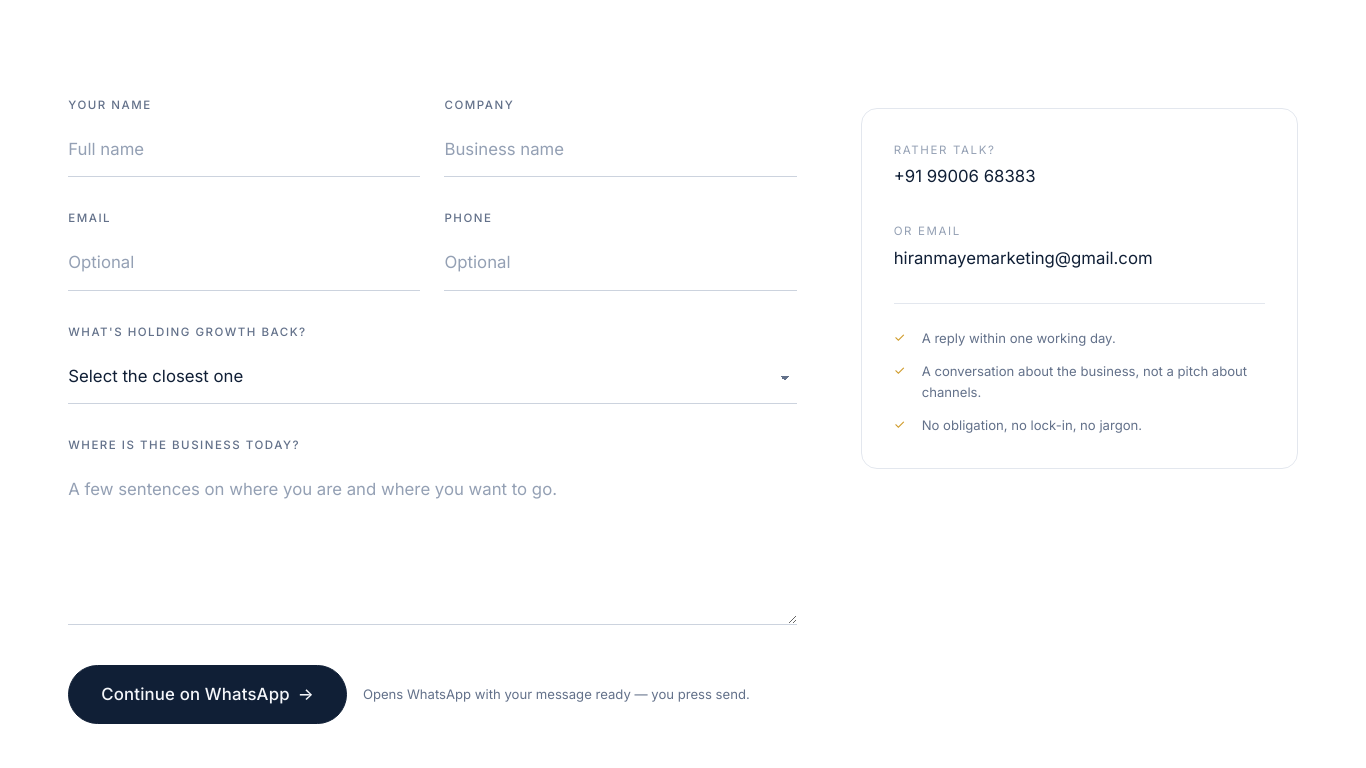
Test: ContactForm › keeps email and phone optional, validating them only when filled
Type "Valan" into the field labelled "Your name".
click(244, 150); type("Valan")  # box left=68, top=122, right=420, bottom=177
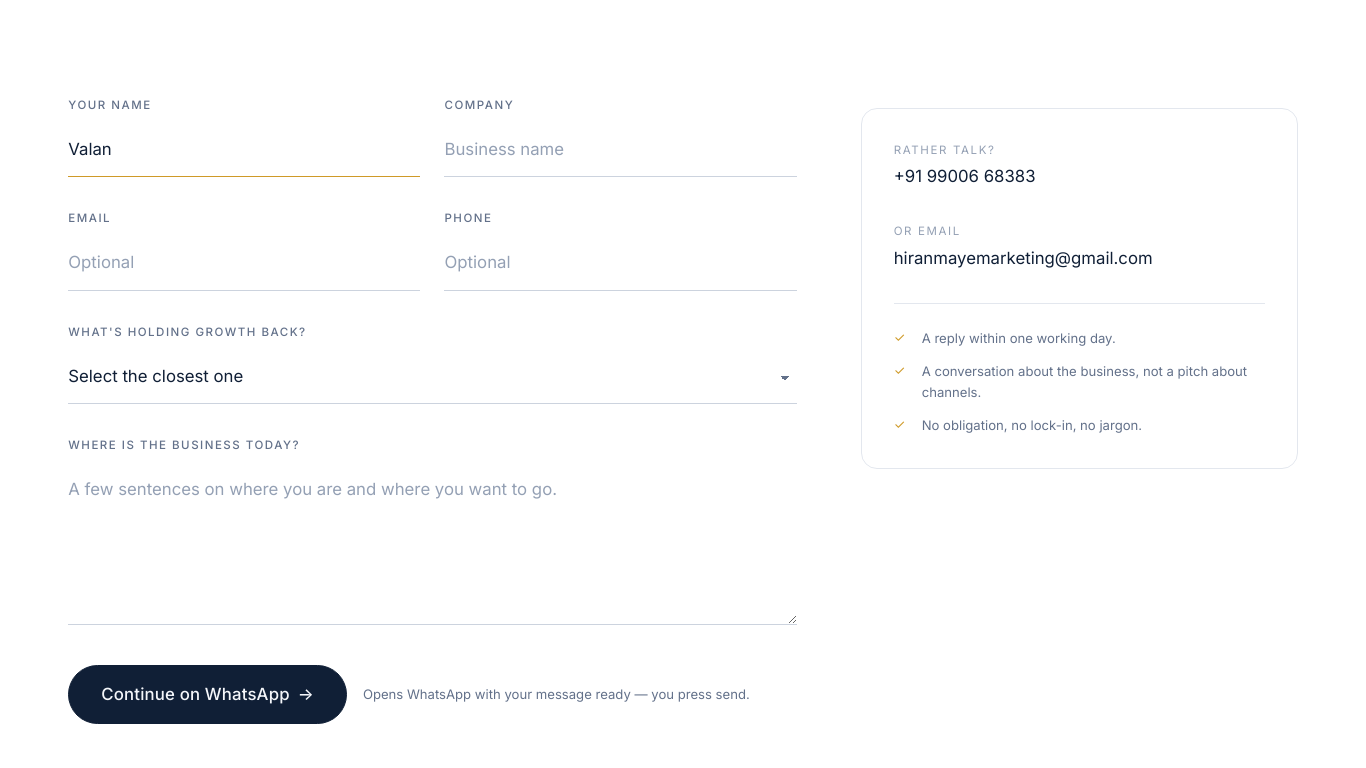
Type "Acme Foods" into the field labelled "Company".
click(621, 150); type("Acme Foods")  # box left=444, top=122, right=797, bottom=177
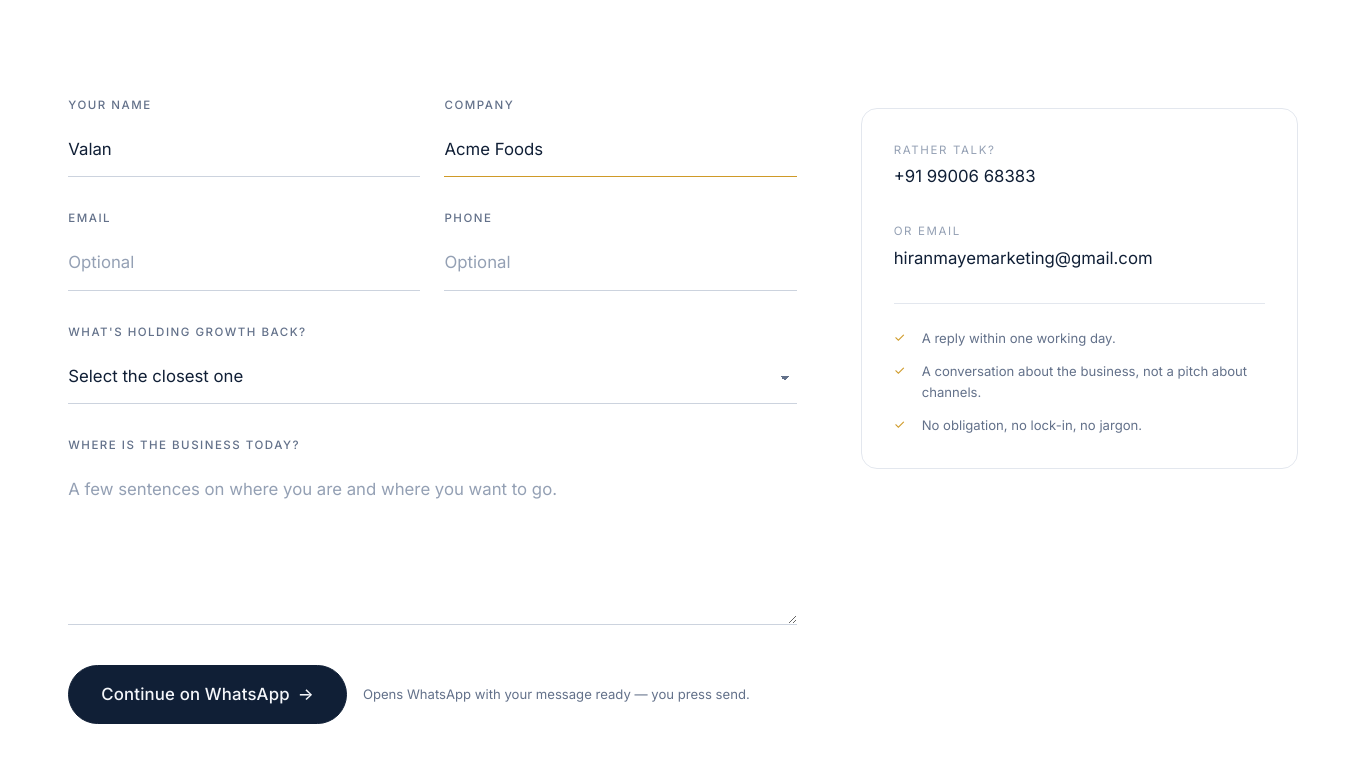
Type "Enquiries have flattened." into the text box labelled "Where is the business today?".
click(432, 544); type("Enquiries have flattened.")  # box left=68, top=463, right=797, bottom=625
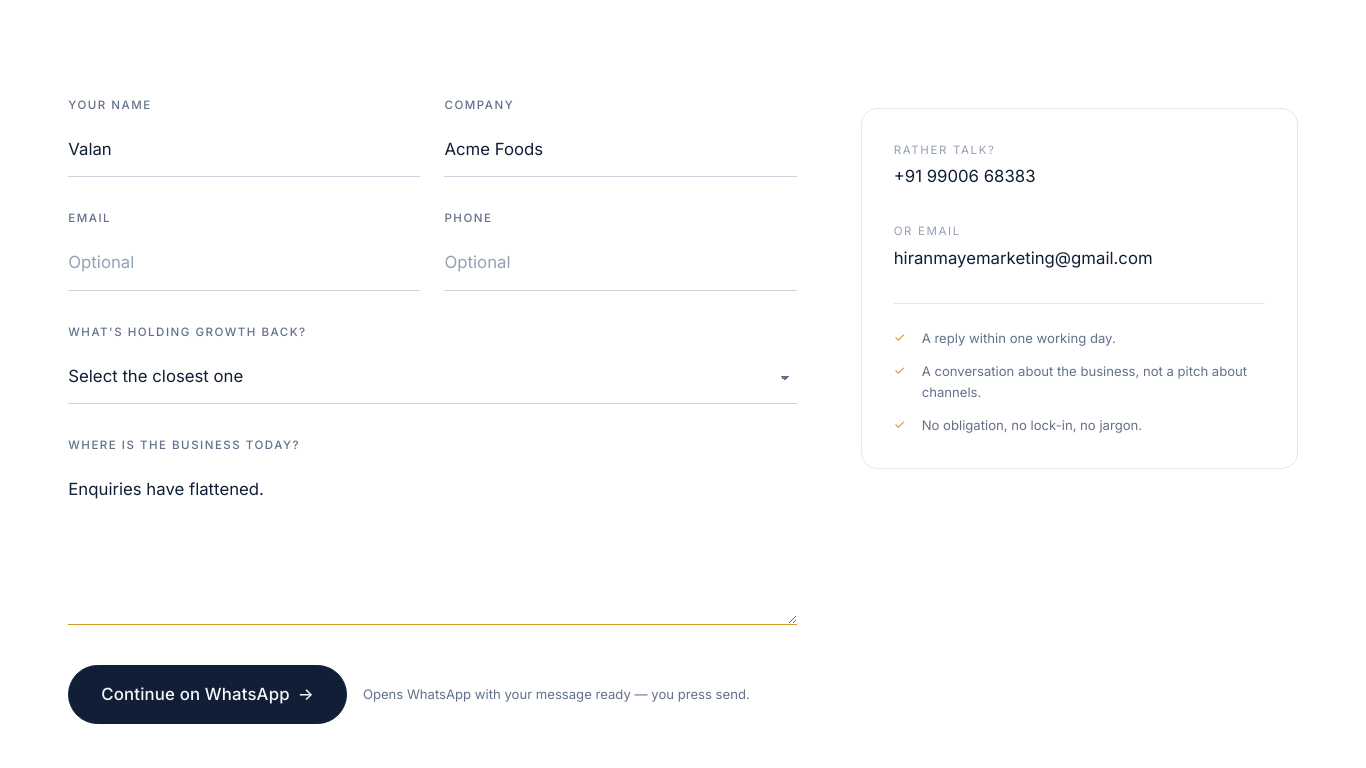
Type "not-an-email" into the field labelled "Email".
click(244, 263); type("not-an-email")  # box left=68, top=236, right=420, bottom=291
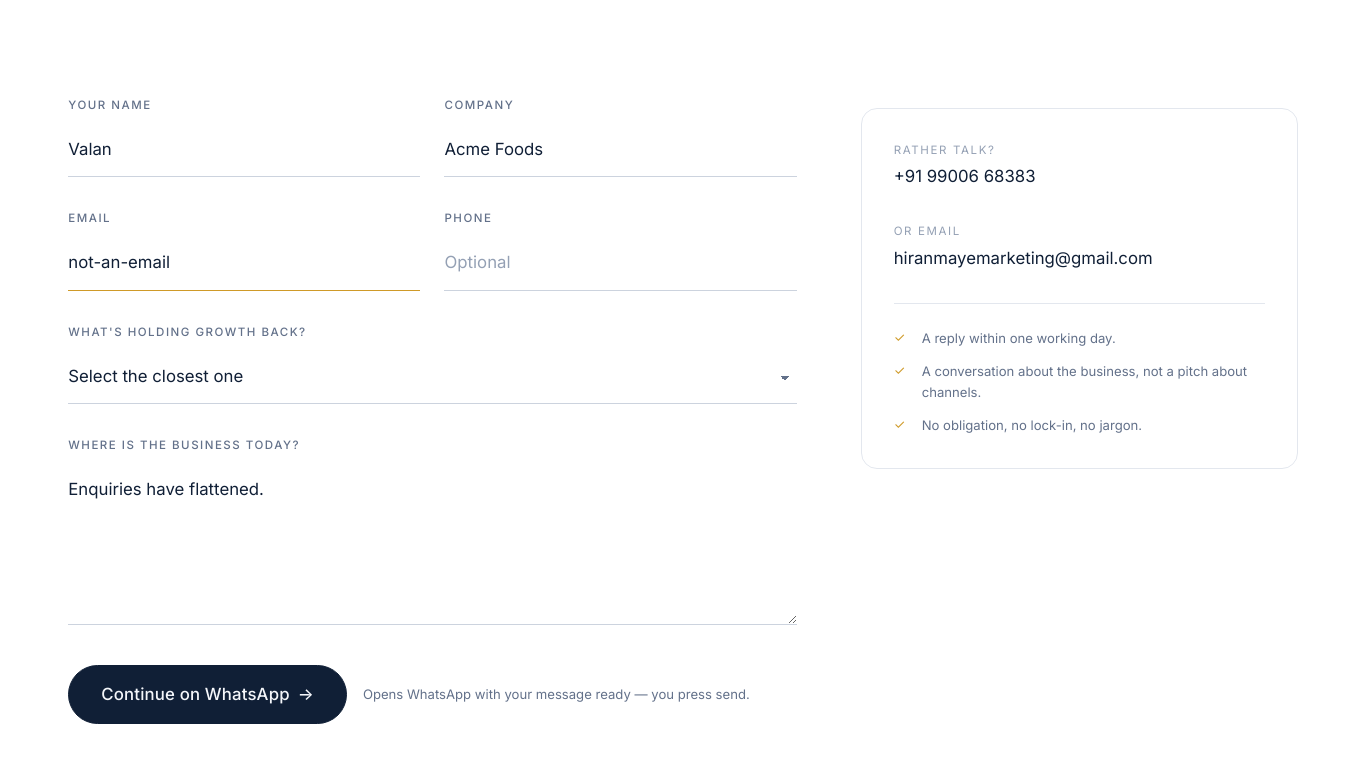
Type "12" into the field labelled "Phone".
click(621, 263); type("12")  # box left=444, top=236, right=797, bottom=291
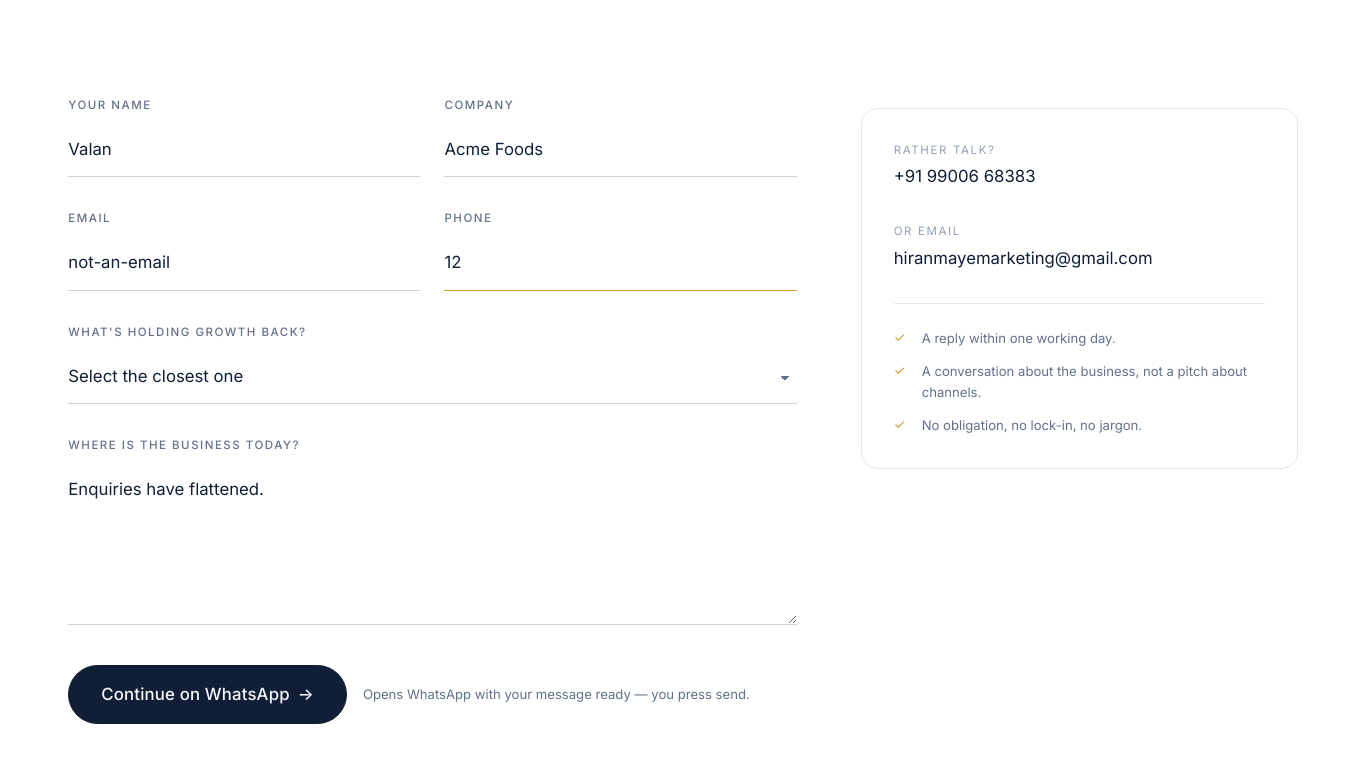
Click the button "Continue on WhatsApp →".
click(208, 694)  # box left=68, top=665, right=347, bottom=724
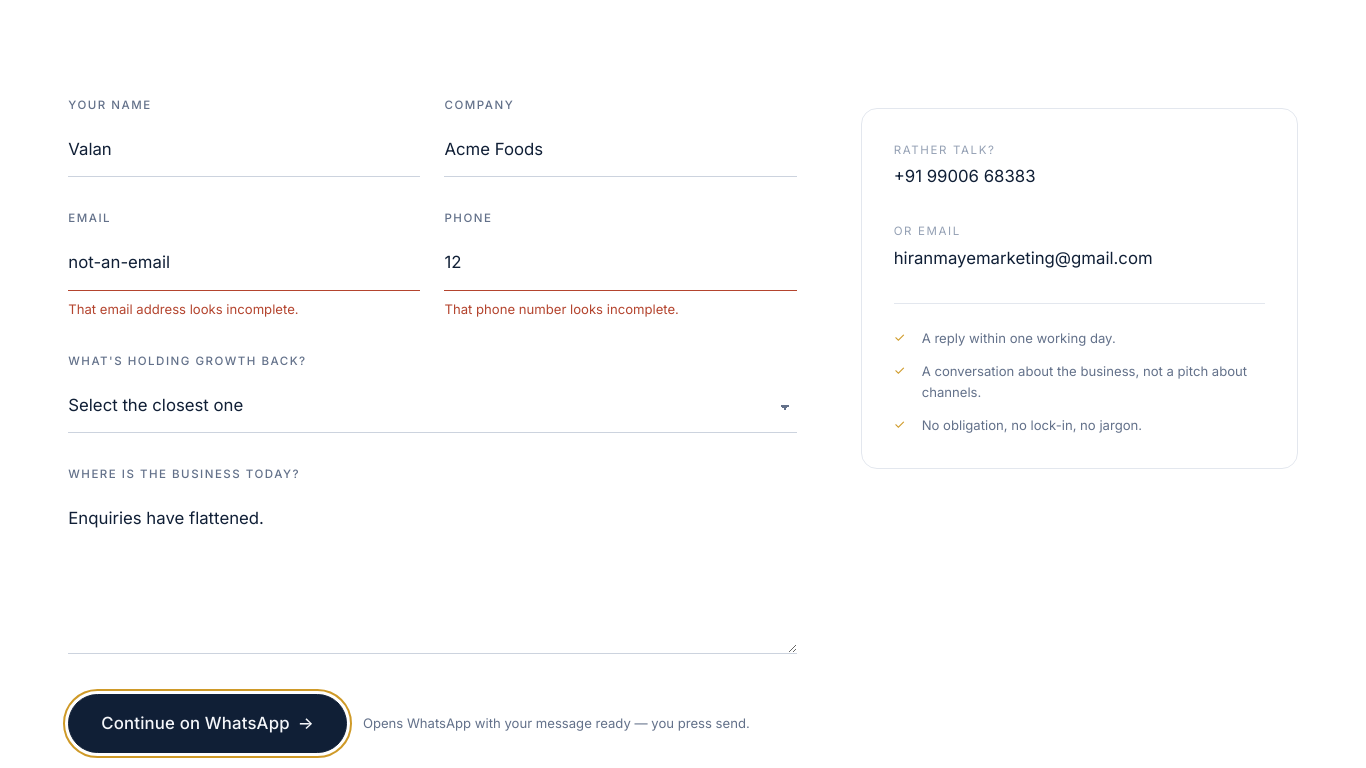
Expected: the text "That email address looks incomplete." is shown, left=68, top=301, right=299, bottom=317
Expected: the text "That phone number looks incomplete." is shown, left=444, top=301, right=679, bottom=317
